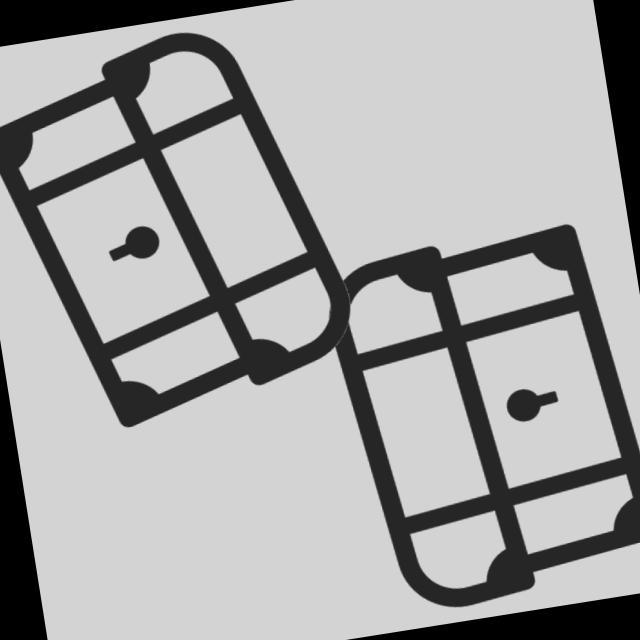treasure_box: (1, 4, 374, 454), (310, 202, 640, 626)
